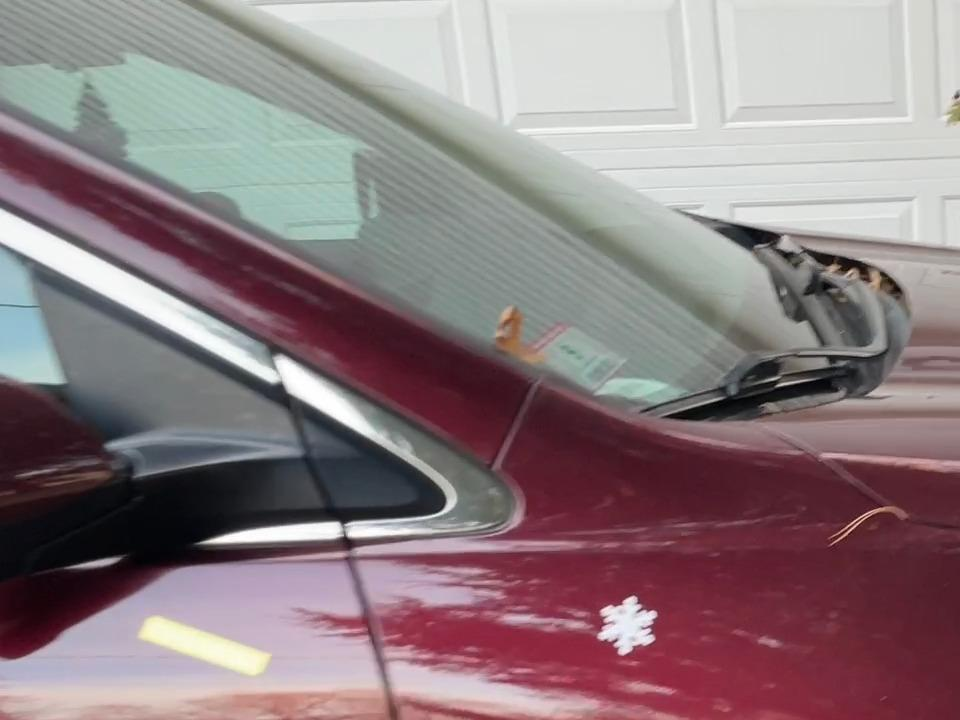dent: (591, 578, 682, 677)
